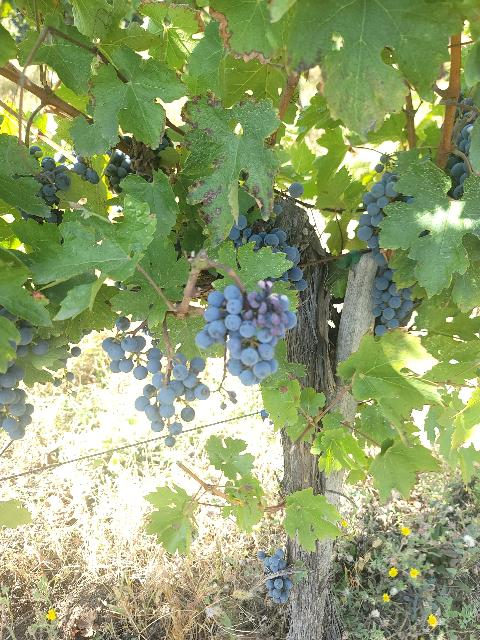grapes: (195, 280, 296, 386), (135, 352, 210, 446), (356, 172, 415, 266), (101, 316, 162, 380), (371, 265, 414, 336), (258, 549, 292, 604)
